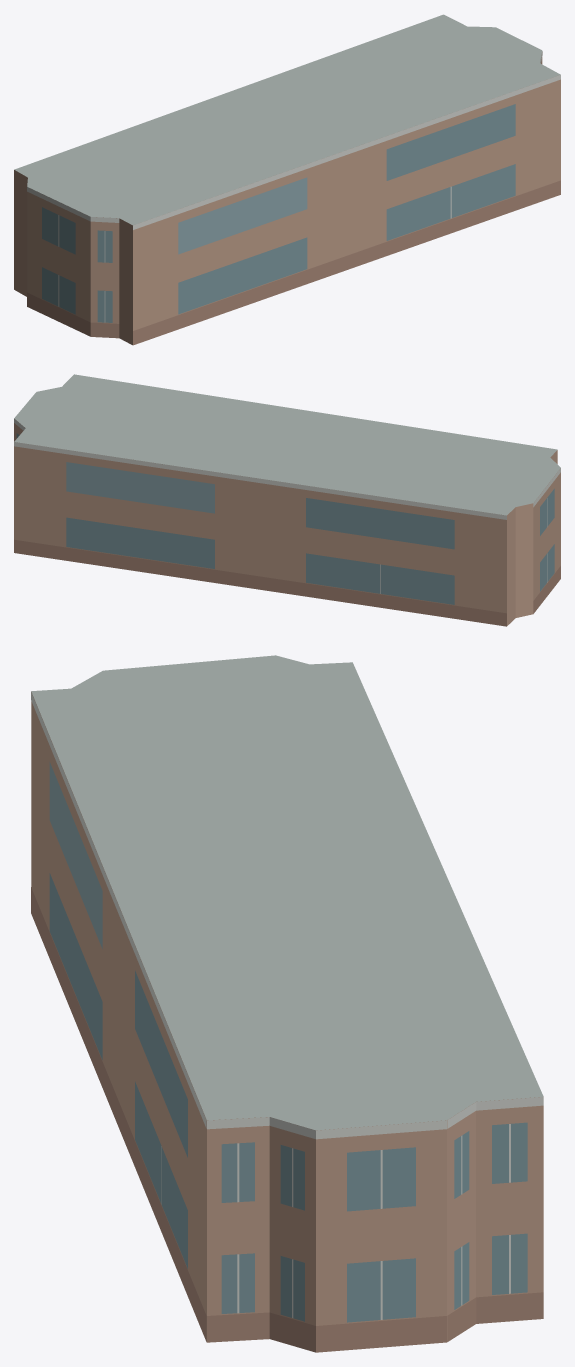
Rendered from survey-upis-32585836.glb.
3 views of the same model, one above another, from view 1: azimuth 30°, elevation 25°; view 2: azimuth 150°, elevation 25°; view 3: azimuth 270°, elevation 25° (orthographic). The views are drawn at different scales.
Visible parts, largest first — view 1: survey-upis-32585836.tmp; view 2: survey-upis-32585836.tmp; view 3: survey-upis-32585836.tmp.
Part boxes in pixels (x1=…): survey-upis-32585836.tmp: x1=14, y1=14, x2=560, y2=345; survey-upis-32585836.tmp: x1=14, y1=374, x2=560, y2=626; survey-upis-32585836.tmp: x1=31, y1=655, x2=543, y2=1352.
Bounding box in the file's own units: 28 × 6.1 × 12.77.
